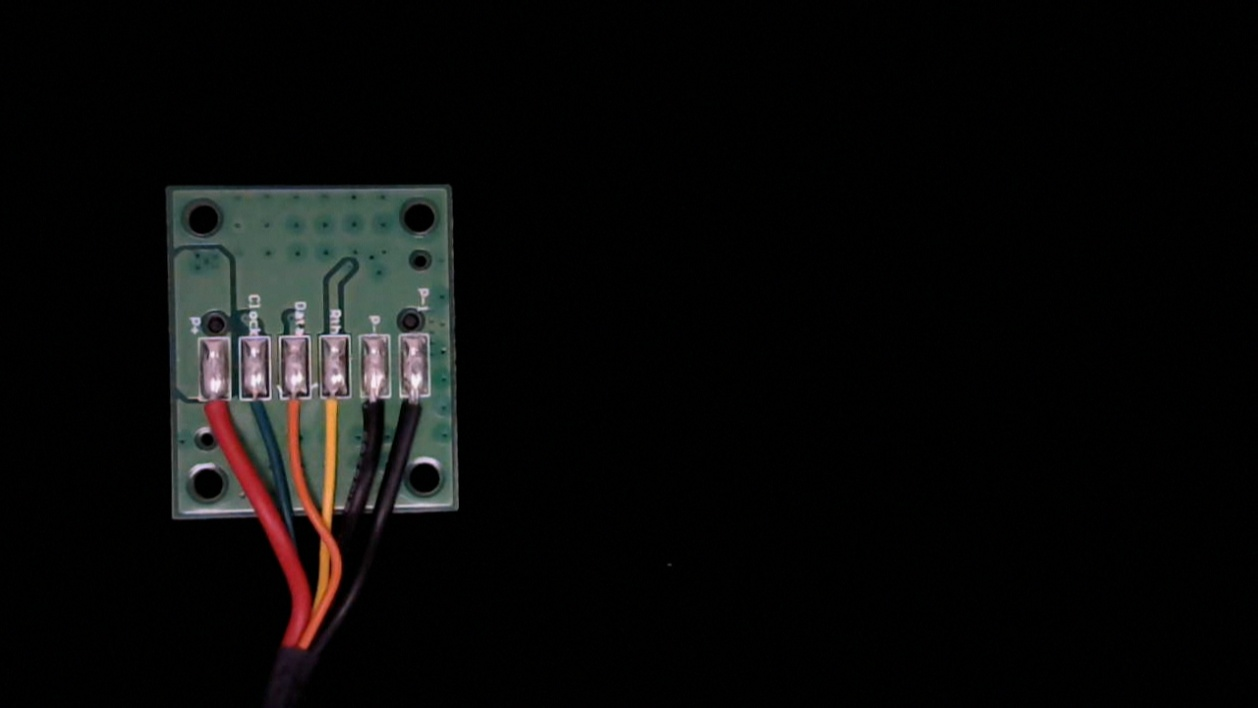Black: (361, 385, 392, 442)
Black1: (401, 383, 431, 441)
Green: (239, 385, 273, 441)
Orange: (282, 385, 310, 443)
Red: (198, 385, 232, 446)
Yellow: (320, 385, 353, 446)
